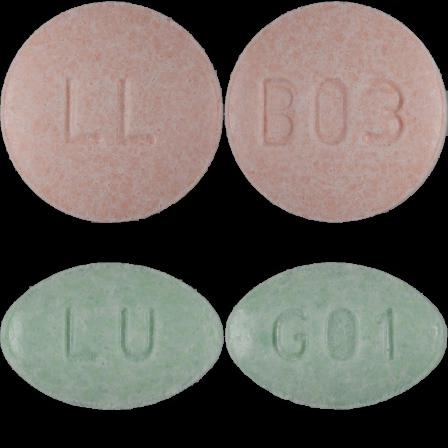16590-309: (0, 0, 224, 224)
